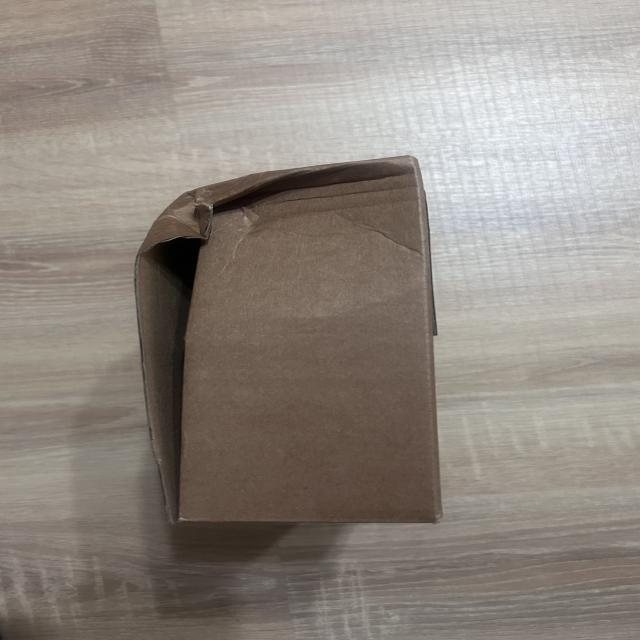damaged: (138, 156, 453, 533), (147, 144, 396, 256)
